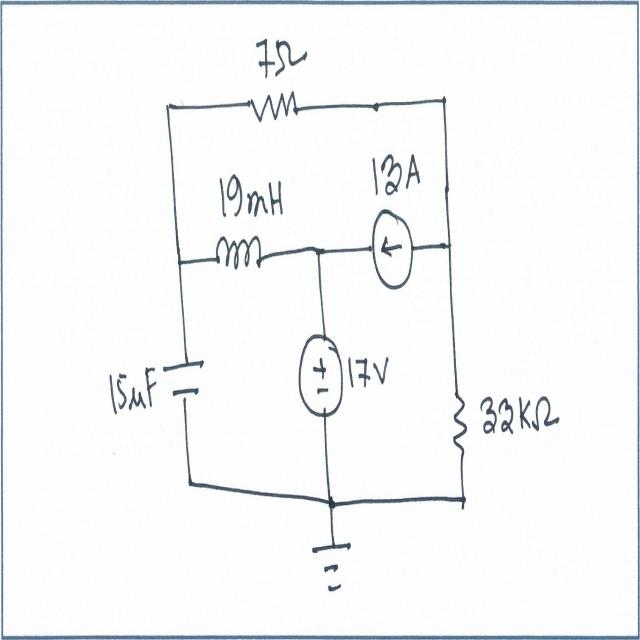capacitor: (162, 349, 212, 403)
current_source: (369, 203, 418, 294)
ground: (308, 538, 358, 590)
inductor: (213, 224, 268, 282)
resistor: (243, 86, 303, 131), (451, 382, 471, 464)
voltage_source: (295, 327, 346, 426)
